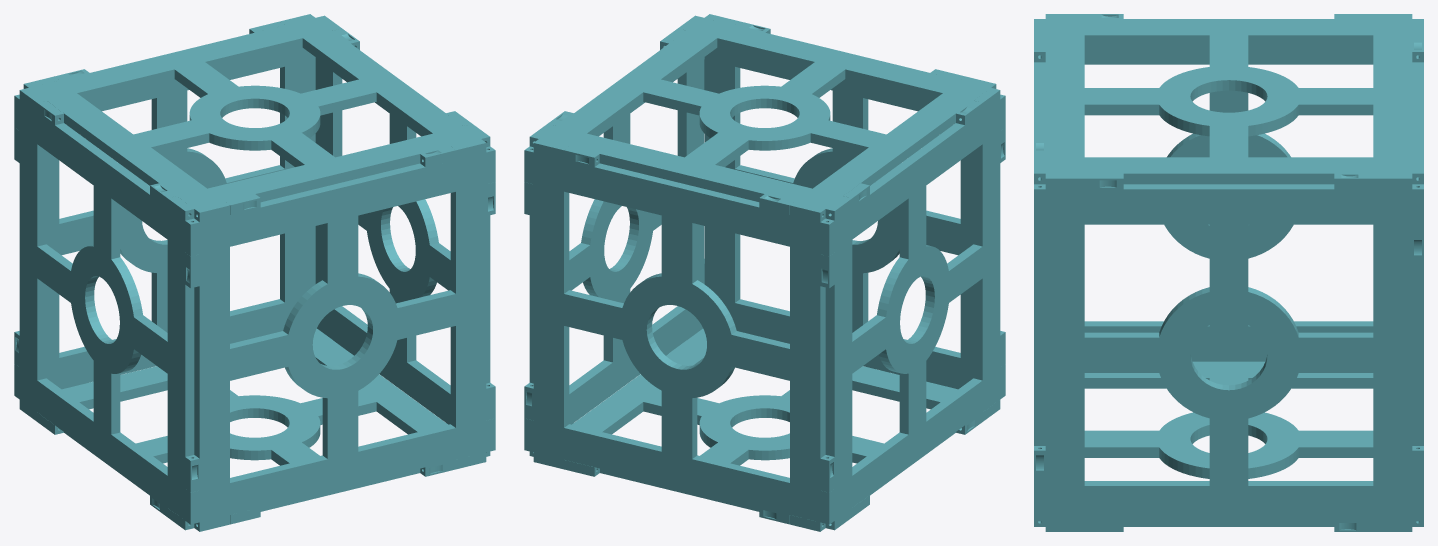
The model's file is Cubes Frame Mounted.glb.
3 renders of one model, left to right at view 1: azimuth 30°, elevation 25°; view 2: azimuth 150°, elevation 25°; view 3: azimuth 270°, elevation 25°, orthographic. The views are drawn at different scales.
Visible parts, largest first — view 1: Mesh_Mesh_head_geo.001_lambert2SG.001; view 2: Mesh_Mesh_head_geo.001_lambert2SG.001; view 3: Mesh_Mesh_head_geo.001_lambert2SG.001.
Part boxes in pixels (x1,y1,x2,y2): Mesh_Mesh_head_geo.001_lambert2SG.001: [14, 14, 495, 531]; Mesh_Mesh_head_geo.001_lambert2SG.001: [524, 14, 1005, 531]; Mesh_Mesh_head_geo.001_lambert2SG.001: [1034, 14, 1423, 531].
Size of the model in its own units: 100 by 100 by 100.
